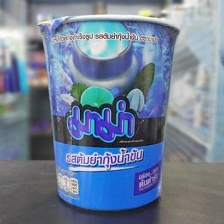paper_cup: (32, 8, 185, 217)
